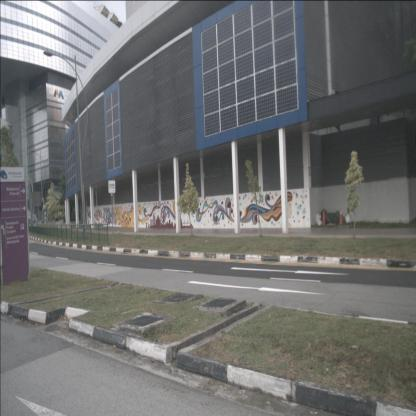cone: (338, 209, 344, 225), (322, 210, 326, 226)
